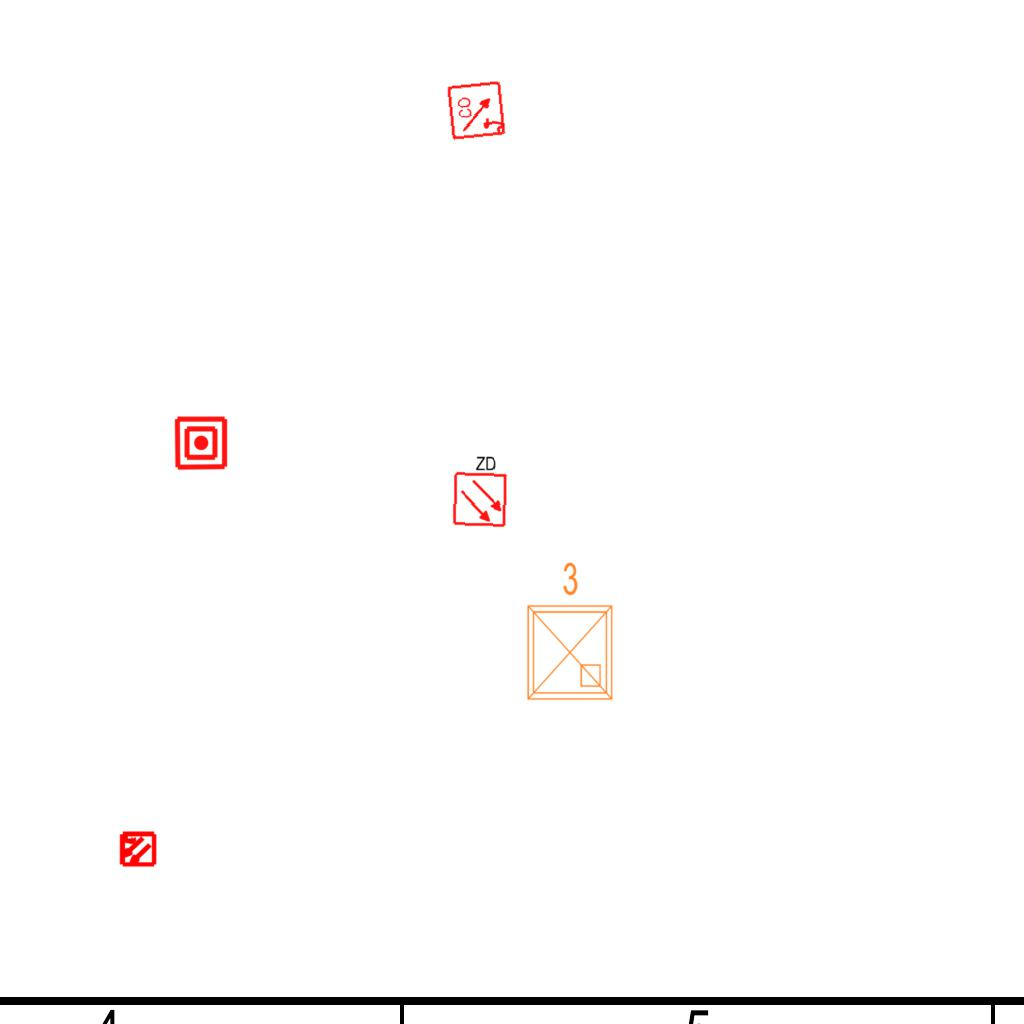Einbaudownlights_LED_Konferenzraeume: (516, 557, 620, 707)
NAM-Nichtautomatischer_Melder: (173, 415, 229, 471)
OT_Multisensormelder_(Kombination_RMO_WMD): (109, 821, 165, 877)
ROA_Rauchmelder_optisch_mit_Signalgeber_(Sockelsirene): (446, 79, 508, 141)
ZD_Melder_in_Zwischendecke_mit_Revisionsoeffnung_mind_40_x_40_cm: (449, 452, 510, 528)
